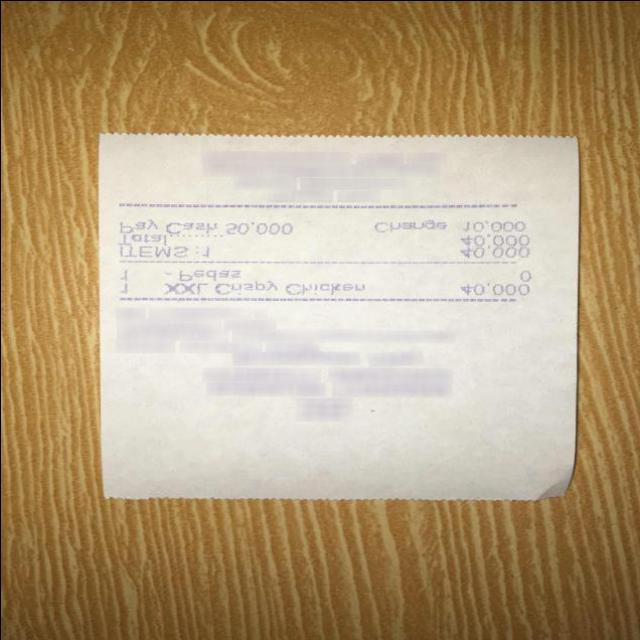kertas: (95, 133, 578, 499)
